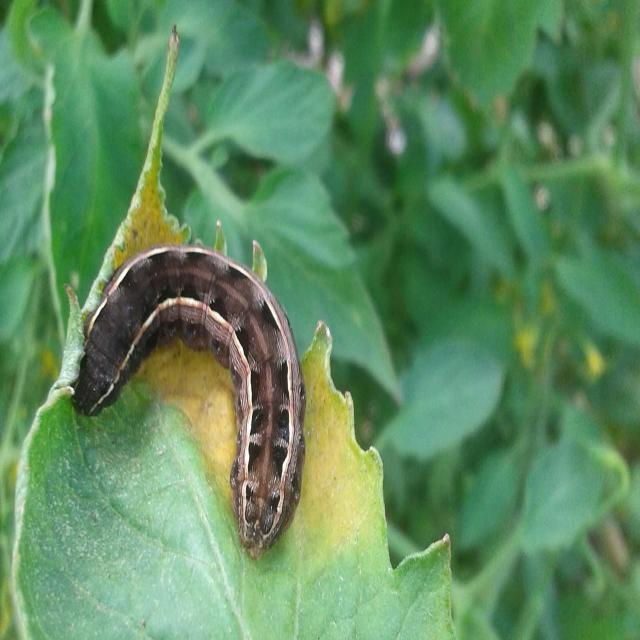cutworm: (62, 229, 306, 562)
